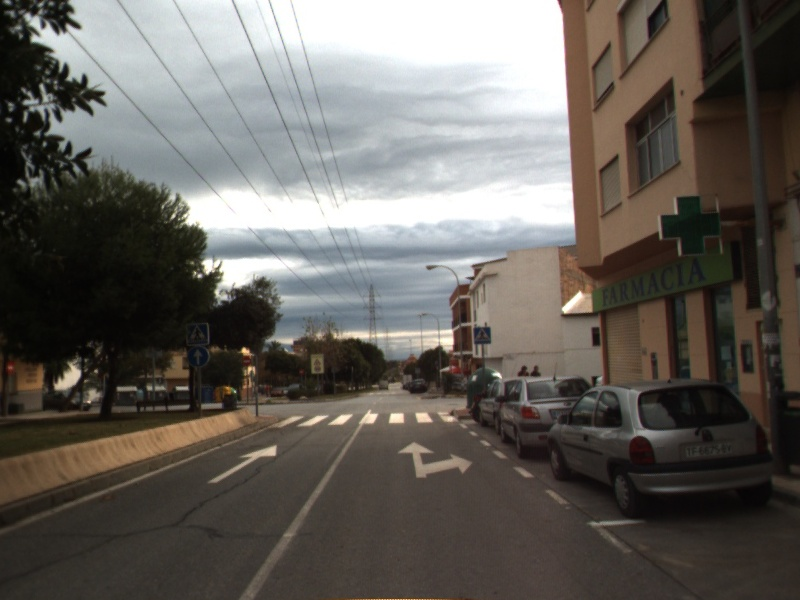STRAIGHT: (205, 443, 279, 485)
STRAIGHT_RIGHT: (395, 439, 475, 480)
